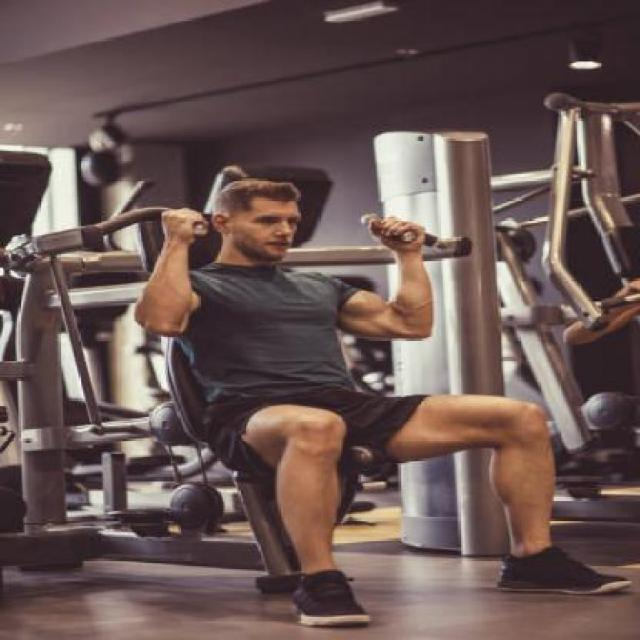shoulder press machine: (3, 131, 515, 560)
